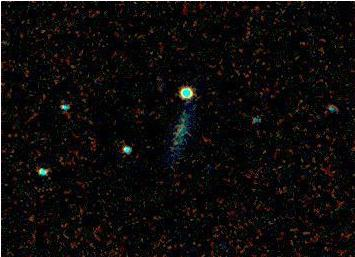star: (160, 127, 190, 157)
